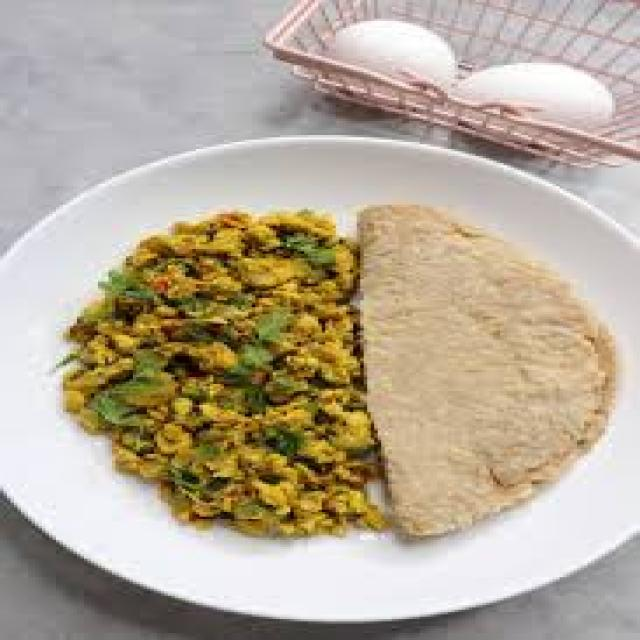POHA: (59, 207, 381, 528)
